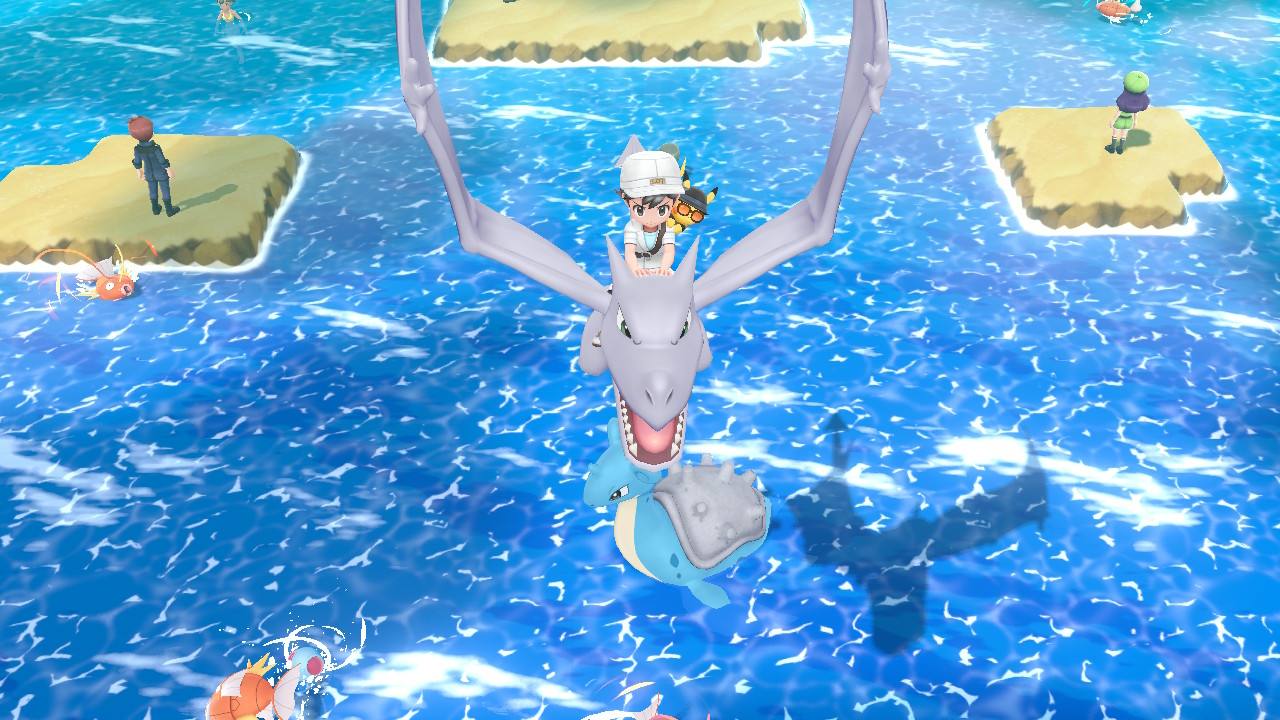Red: (199, 657, 303, 720), (65, 252, 149, 308), (1085, 1, 1146, 27)
